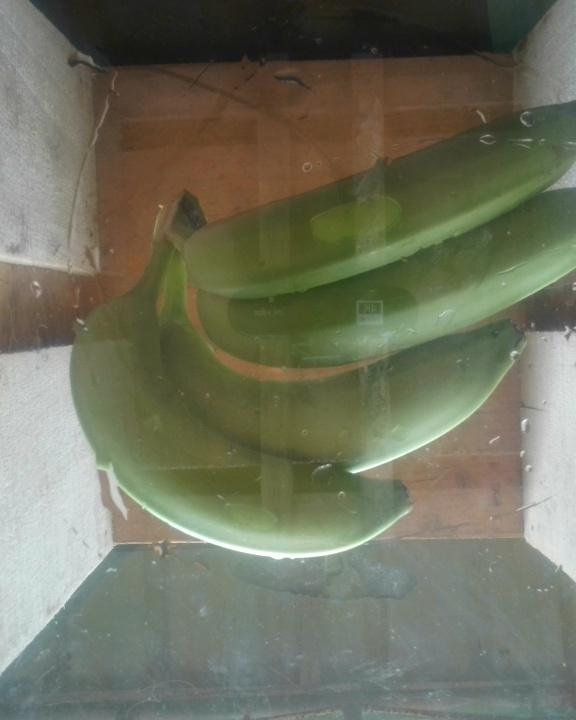SPOT: (61, 94, 576, 571)
